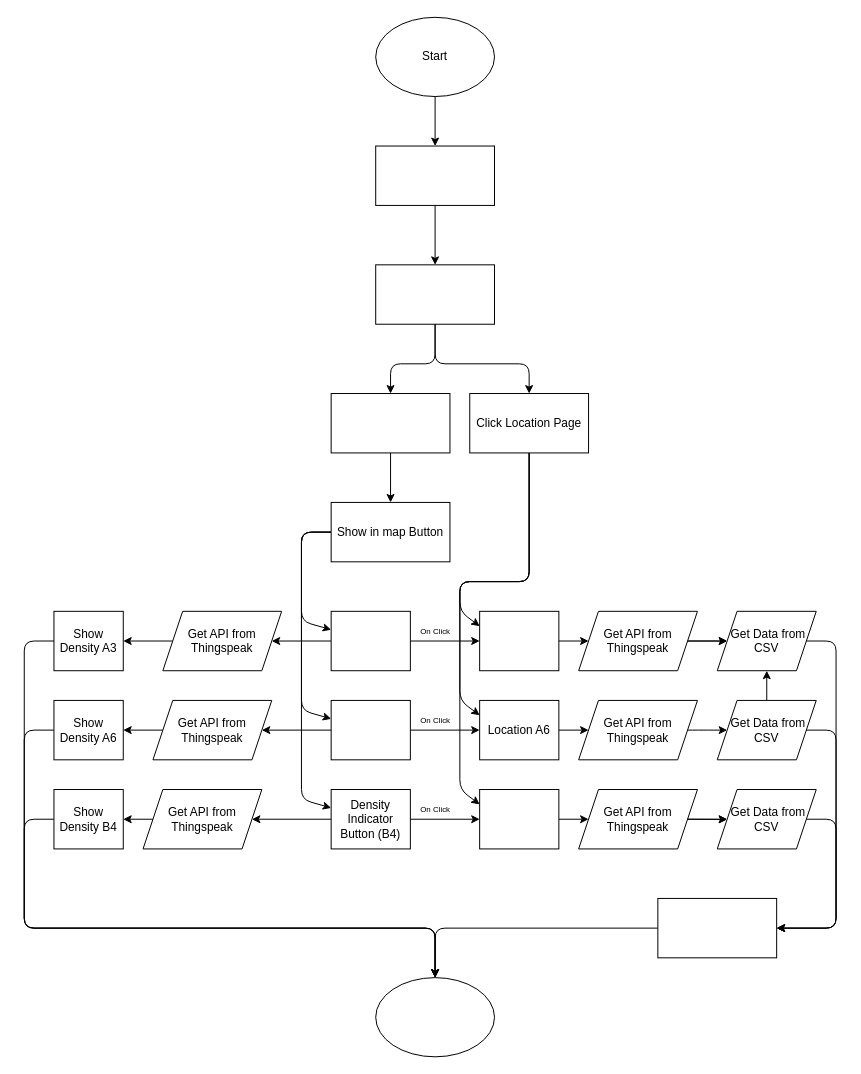
Image size: 861x1074. Some labels were removed from this diagram. The box of each missing label's shape, as (x1, y1, x2, y2) in pixels:
Click Home Page: (330, 393, 450, 453)
Density Indicator Button (A3): (330, 610, 410, 671)
Density Indicator Button (A6): (330, 699, 410, 760)
End: (375, 977, 495, 1057)
Home Page: (375, 145, 495, 205)
Location A3: (479, 610, 559, 671)
Location B4: (479, 789, 559, 849)
NavBar: (375, 264, 495, 324)
Show Info every Location that selected: (657, 897, 777, 958)
